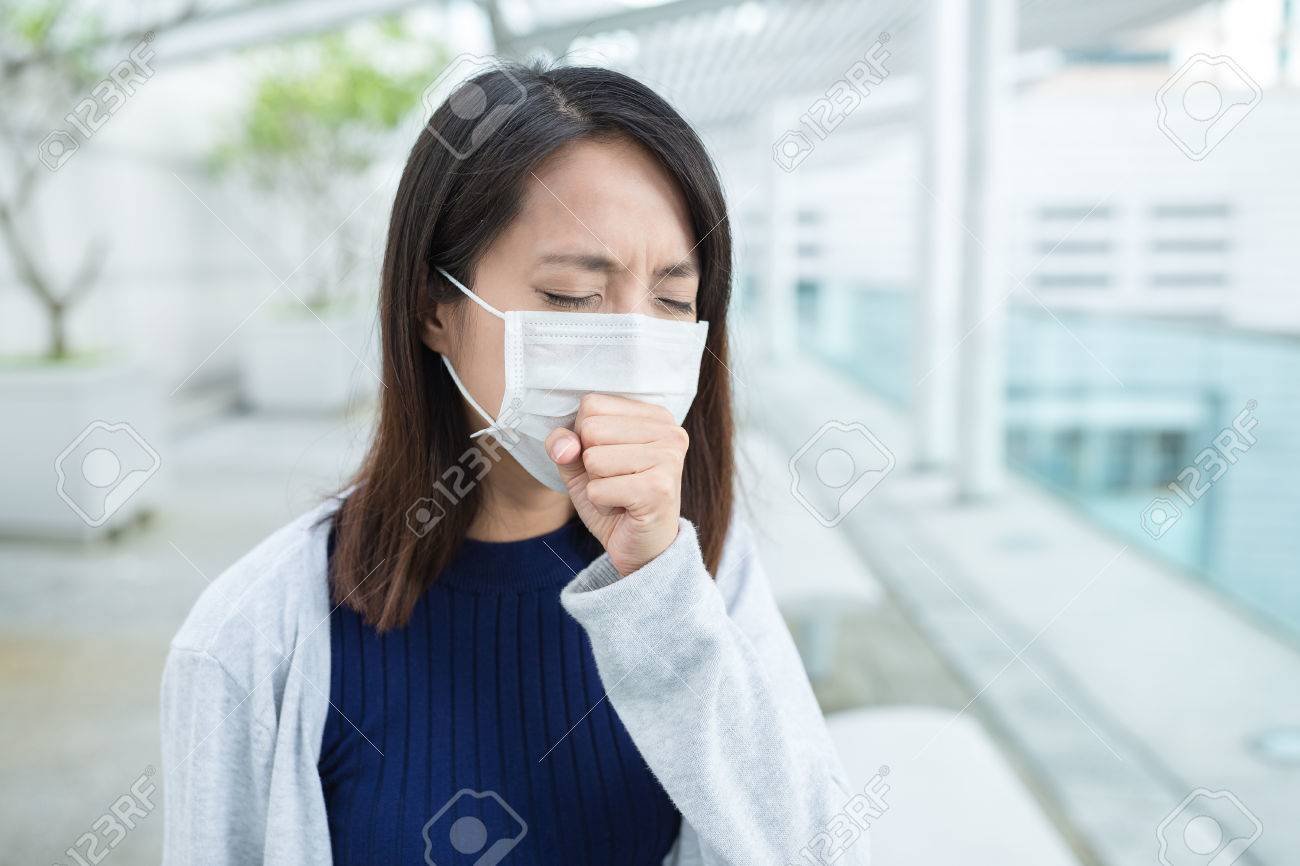with_mask: (415, 97, 733, 503)
